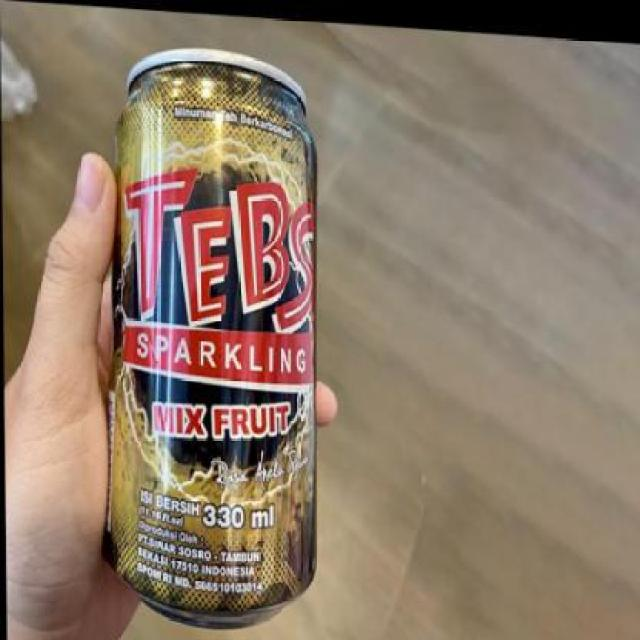Metal: (101, 43, 324, 632)
